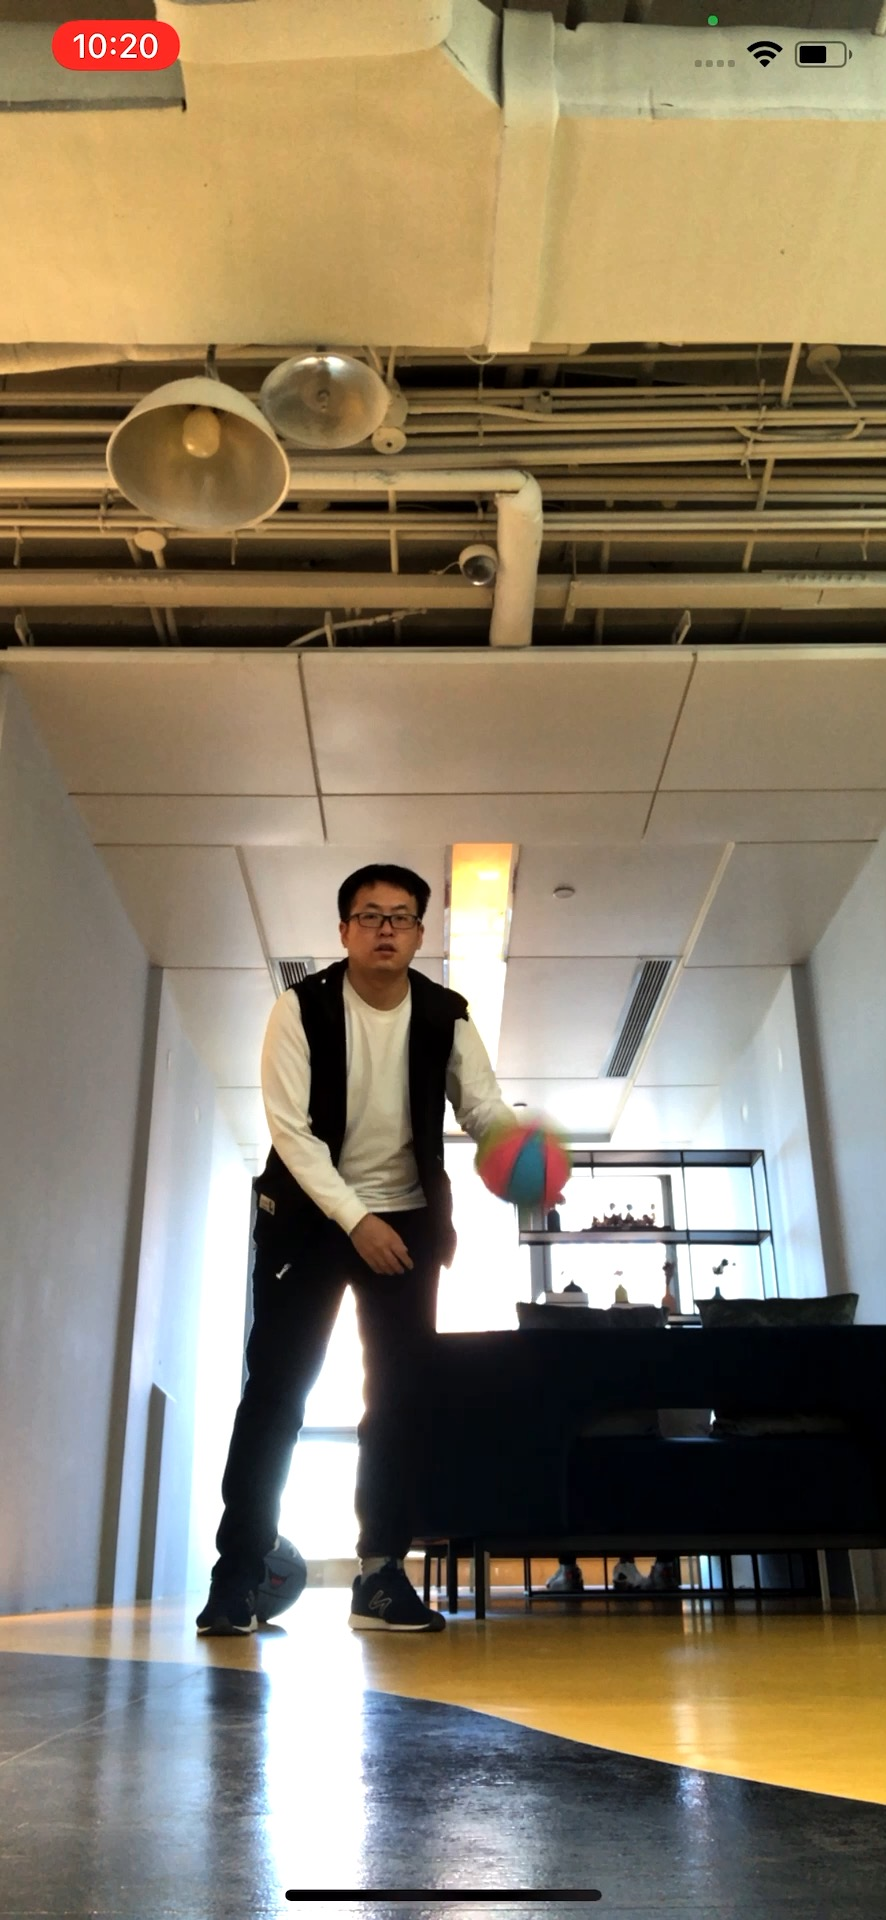ball: (476, 1109, 571, 1210)
